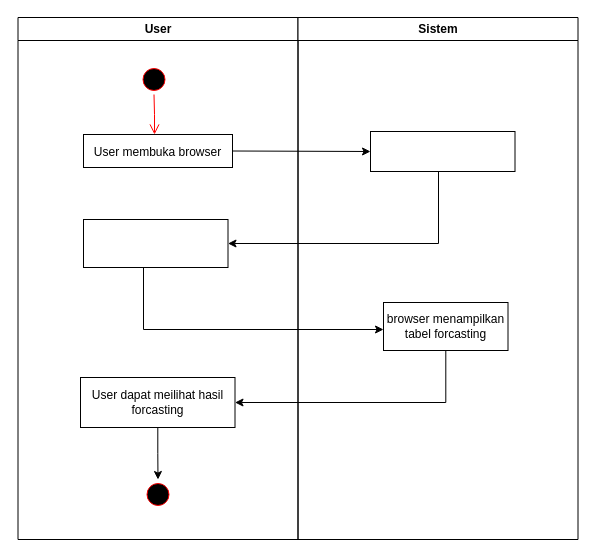
Image size: 595x557. Some labels were removed from this diagram. The box of each missing label's shape, as (x1, y1, x2, y2) in pixels:
browser terbuka menampilkan halaman: (370, 130, 515, 172)
menu tabel forcasting: (82, 218, 228, 268)
